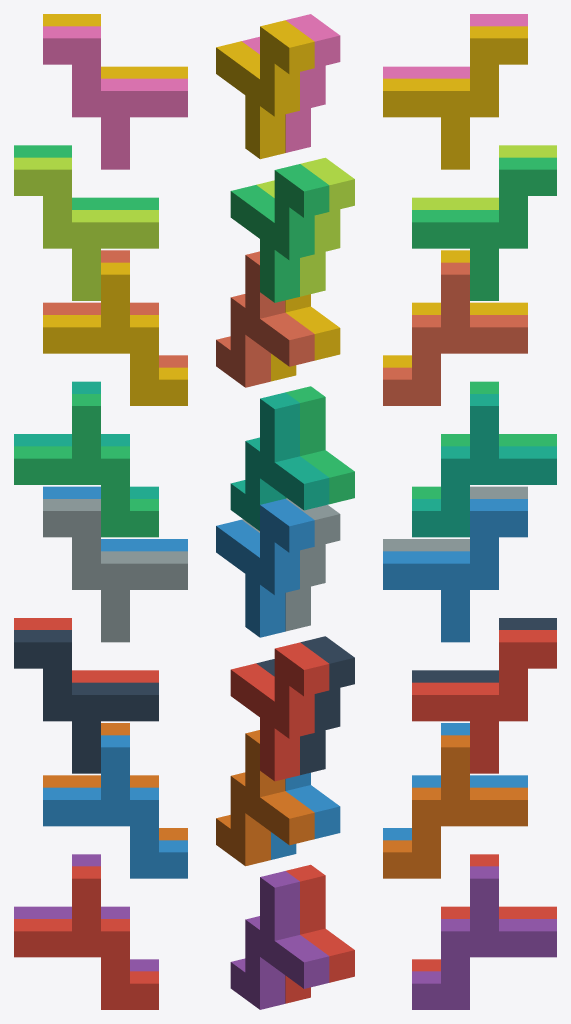
File: tiling.obj
The picture shows the model from 3 angles, left to right: view 1: azimuth 90°, elevation 25°; view 2: azimuth 210°, elevation 25°; view 3: azimuth 270°, elevation 25°; orthographic projection.
Parts seen in each view (by area): view 1: copy_1_domain_2, copy_2_domain_1, copy_2_domain_4, copy_1_domain_1, copy_1_domain_3, copy_1_domain_4, copy_2_domain_2, copy_2_domain_3, copy_1_domain_5, copy_1_domain_6, copy_1_domain_7, copy_1_domain_8 (+4 smaller); view 2: copy_1_domain_5, copy_2_domain_7, copy_2_domain_5, copy_2_domain_6, copy_2_domain_8, copy_1_domain_7, copy_1_domain_6, copy_1_domain_8, copy_2_domain_3, copy_2_domain_1, copy_2_domain_4, copy_1_domain_1 (+4 smaller); view 3: copy_1_domain_6, copy_2_domain_5, copy_2_domain_8, copy_1_domain_5, copy_1_domain_7, copy_1_domain_8, copy_2_domain_6, copy_2_domain_7, copy_1_domain_1, copy_1_domain_2, copy_1_domain_3, copy_1_domain_4 (+4 smaller).
Boxes of the visible parts, <box> form: copy_1_domain_2: <box>43,735,187,878</box>; copy_2_domain_1: <box>14,630,158,773</box>; copy_2_domain_4: <box>43,26,187,169</box>; copy_1_domain_1: <box>14,866,158,1009</box>; copy_1_domain_3: <box>14,394,158,537</box>; copy_1_domain_4: <box>43,262,187,405</box>; copy_2_domain_2: <box>43,499,187,642</box>; copy_2_domain_3: <box>14,157,158,300</box>; copy_1_domain_5: <box>14,854,158,971</box>; copy_1_domain_6: <box>43,723,187,840</box>; copy_1_domain_7: <box>14,381,158,498</box>; copy_1_domain_8: <box>43,250,187,367</box>; copy_1_domain_5: <box>230,871,329,1009</box>; copy_2_domain_7: <box>230,164,329,302</box>; copy_2_domain_5: <box>230,642,329,781</box>; copy_2_domain_6: <box>216,498,314,637</box>; copy_2_domain_8: <box>216,20,314,159</box>; copy_1_domain_7: <box>230,392,329,530</box>; copy_1_domain_6: <box>216,730,314,866</box>; copy_1_domain_8: <box>216,251,314,387</box>; copy_2_domain_3: <box>256,157,354,296</box>; copy_2_domain_1: <box>256,636,354,775</box>; copy_2_domain_4: <box>242,14,340,152</box>; copy_1_domain_1: <box>285,864,354,1003</box>; copy_1_domain_6: <box>383,735,527,878</box>; copy_2_domain_5: <box>412,630,556,773</box>; copy_2_domain_8: <box>383,26,527,169</box>; copy_1_domain_5: <box>412,866,556,1009</box>; copy_1_domain_7: <box>412,394,556,537</box>; copy_1_domain_8: <box>383,262,527,405</box>; copy_2_domain_6: <box>383,499,527,642</box>; copy_2_domain_7: <box>412,157,556,300</box>; copy_1_domain_1: <box>412,854,556,971</box>; copy_1_domain_2: <box>383,723,527,840</box>; copy_1_domain_3: <box>412,381,556,498</box>; copy_1_domain_4: <box>383,250,527,367</box>.
Size of the model in its own units: 2 by 37 by 6.
